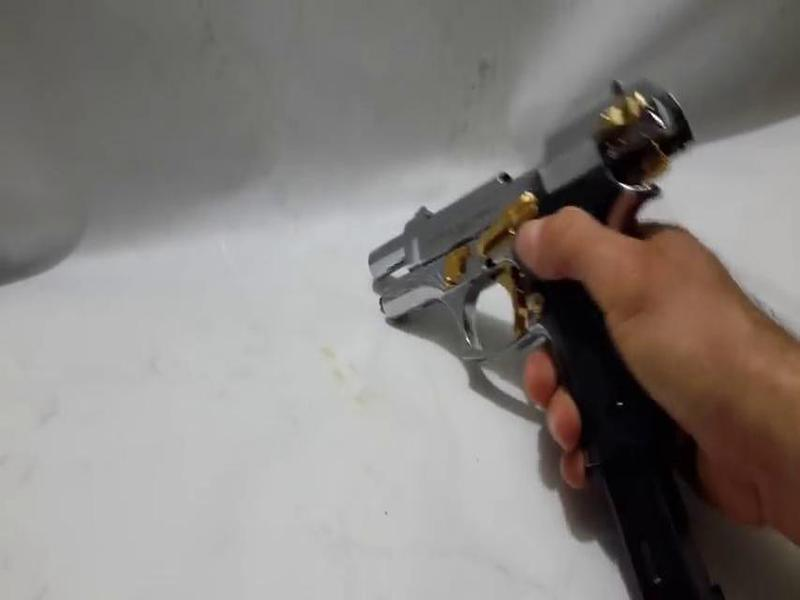Pistola: (354, 60, 719, 468)
